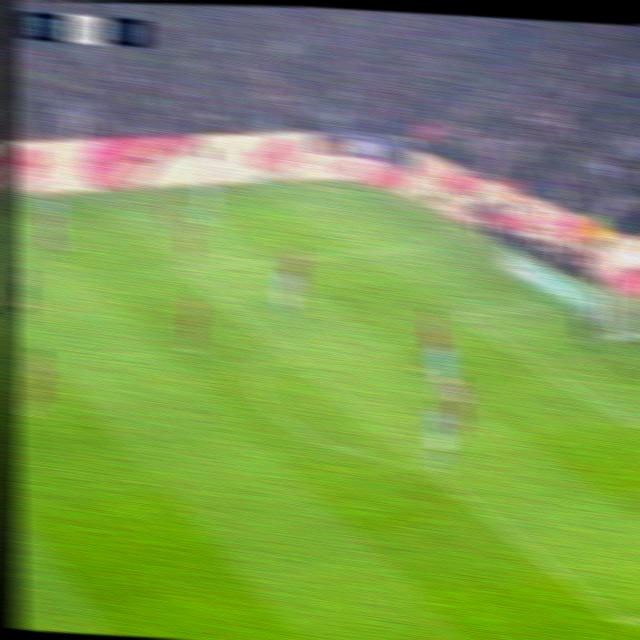bigarea_bottom_inner: (605, 609, 631, 632)
bigarea_top_inner: (171, 260, 191, 275)
bigarea_top_outter: (428, 237, 448, 251)
bottom_arc_area_intersection: (420, 459, 439, 474)
corner: (323, 181, 344, 192)
smallarea_top_inner: (447, 305, 469, 323)
smallarea_top_outter: (534, 298, 552, 310)
top_arc_area_intersection: (268, 339, 288, 354)
